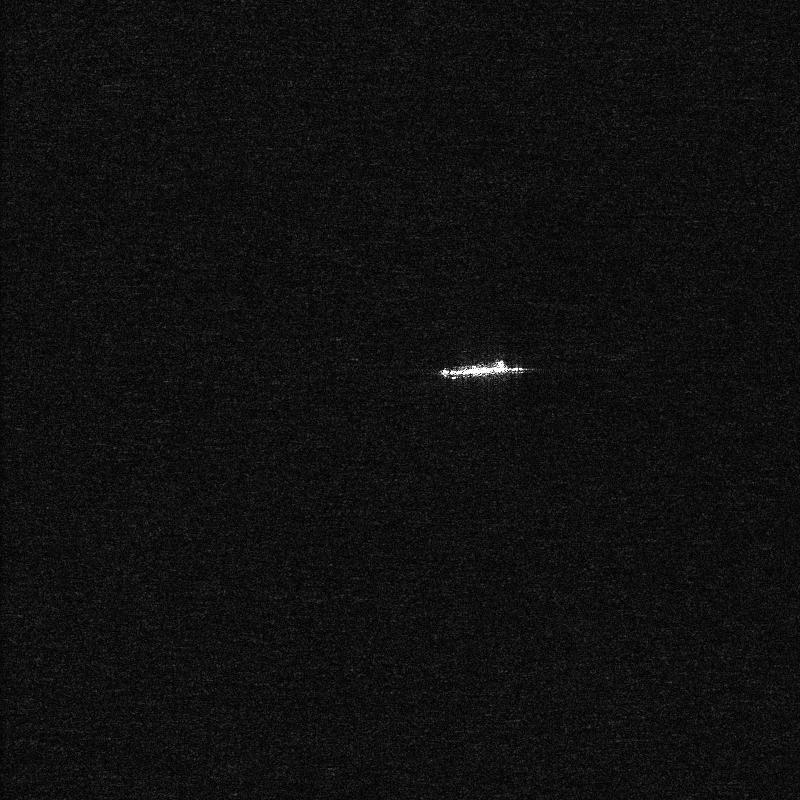ship: (439, 358, 526, 379)
